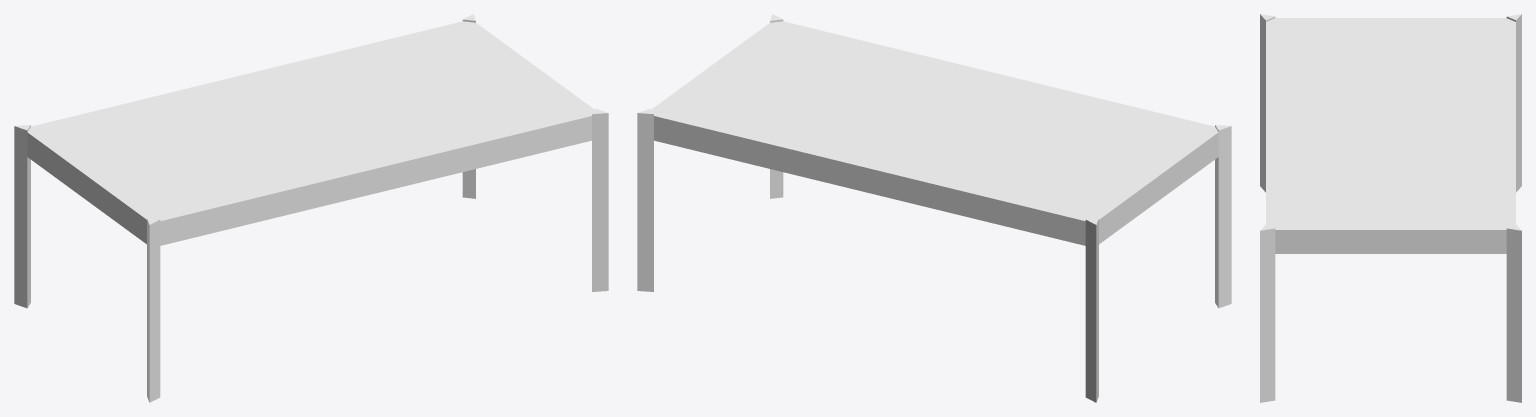
Rendered from TableCollider.obj.
3 views of the same model, side by side, from view 1: azimuth 30°, elevation 25°; view 2: azimuth 150°, elevation 25°; view 3: azimuth 270°, elevation 25° (orthographic). The views are drawn at different scales.
Parts seen in each view (by area): view 1: pCube2; view 2: pCube2; view 3: pCube2.
Boxes of the visible parts, x1=… form: pCube2: x1=14, y1=14, x2=608, y2=402; pCube2: x1=637, y1=14, x2=1231, y2=402; pCube2: x1=1260, y1=14, x2=1521, y2=402.
Size of the model in its own units: 151 by 55.75 by 76.88.
